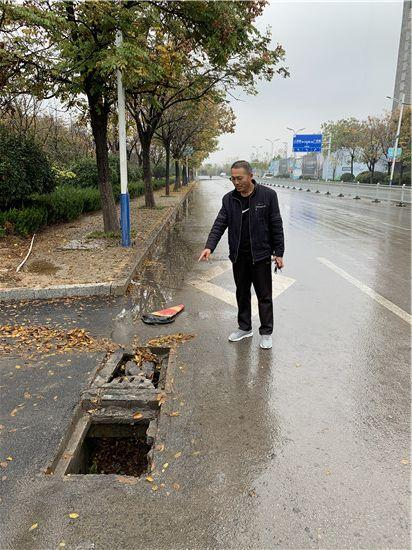lose: (47, 335, 177, 484)
